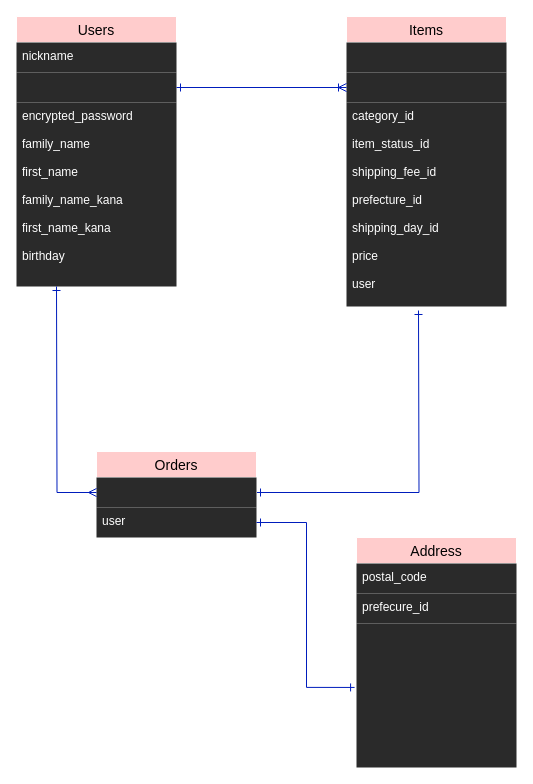
Some shapes in this 533 by 784 pixel diagram are drawn without their labels. The shapes that lost their labels are listed below. From the top down, each one's centre as x and y in pixels, then its label:
At pixel 426 57: "title".
At pixel 96 87: "email".
At pixel 426 87: "description".
At pixel 176 492: "item".
At pixel 436 695: "city address building phone_number order".
